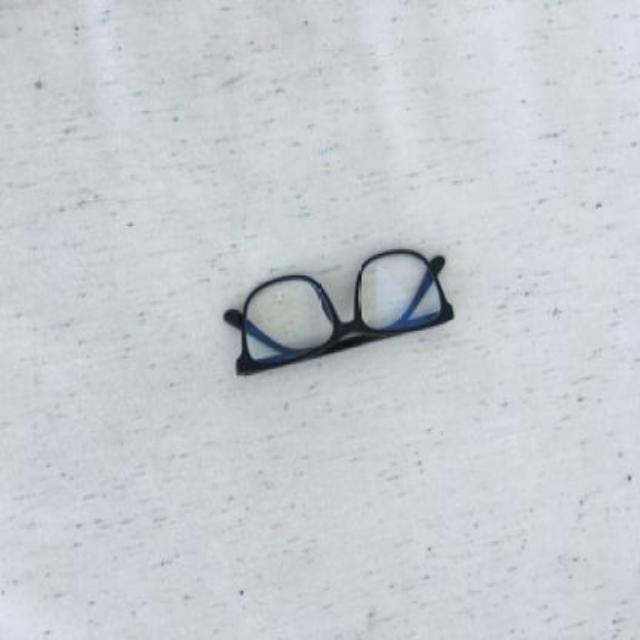mask: (222, 248, 456, 376)
